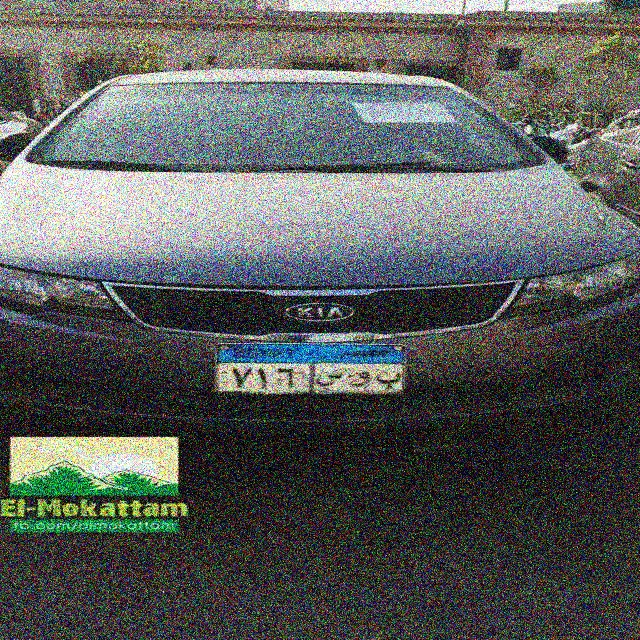License Plate: (210, 341, 410, 396)
